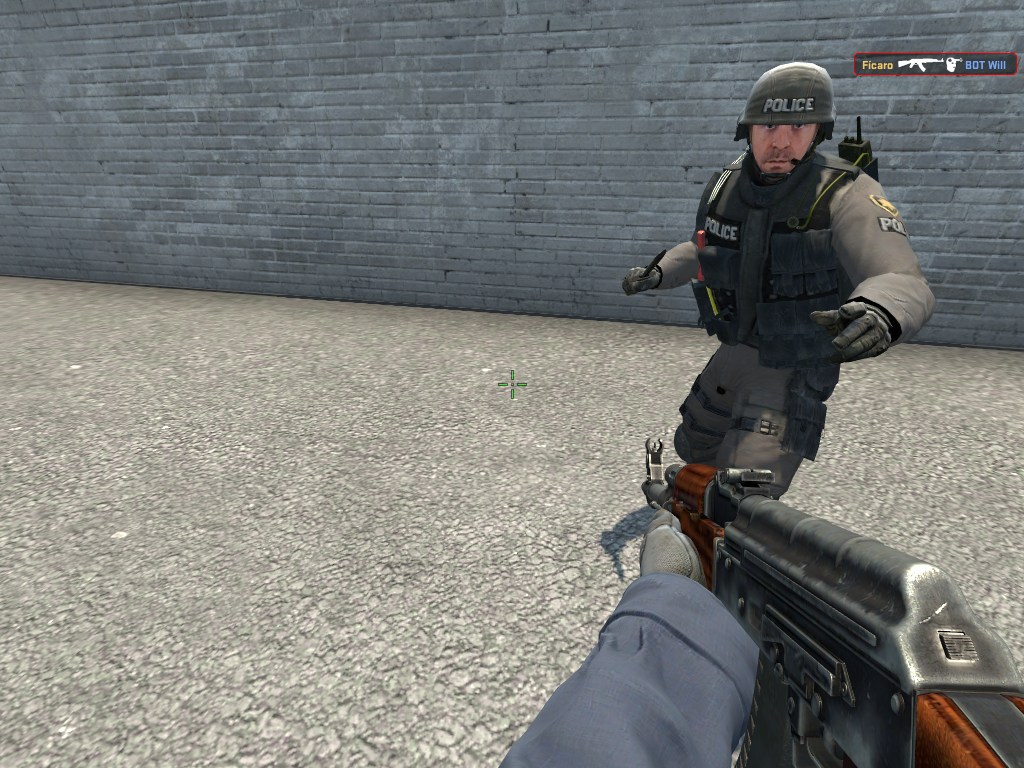ct head: (737, 58, 837, 181)
